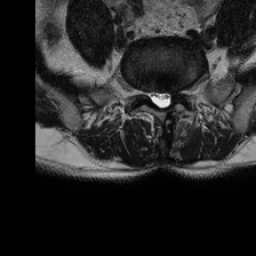CCS_stenosis: (158, 85, 165, 115)
LFS_severe_stenosis: (172, 86, 180, 103)
LLS_normal: (165, 86, 172, 111)
RFS_severe_stenosis: (143, 83, 151, 103)
RLS_normal: (151, 86, 158, 111)
